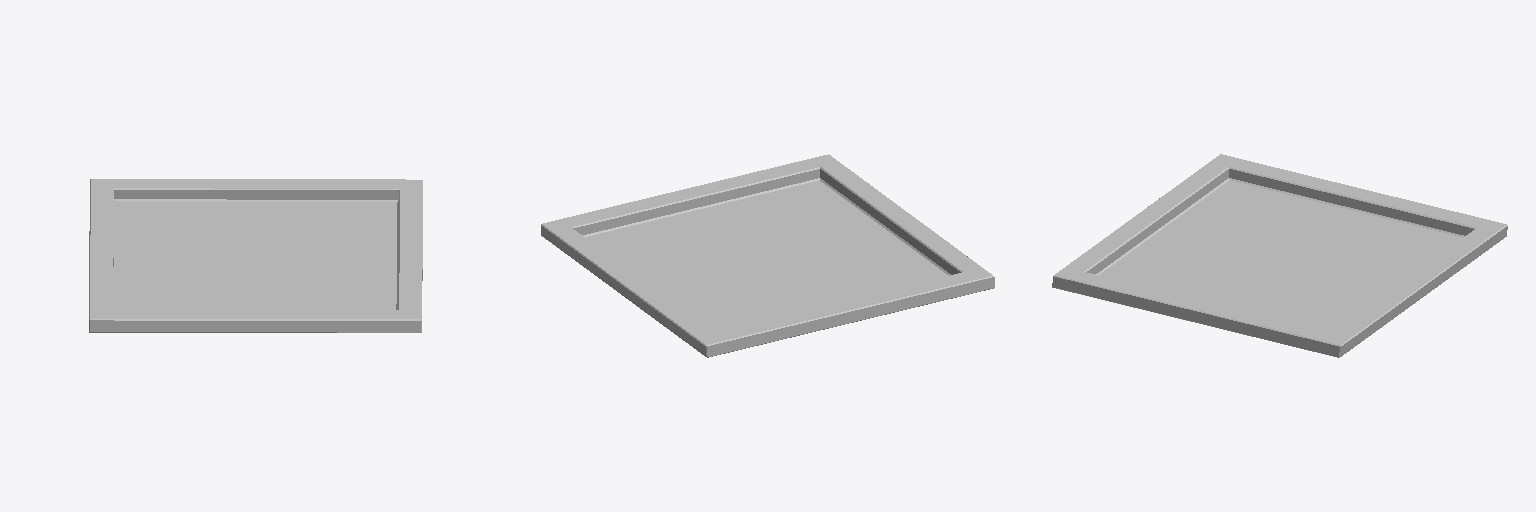
Rendered from box_lid.obj.
The picture shows the model from 3 angles: view 1: azimuth 30°, elevation 25°; view 2: azimuth 150°, elevation 25°; view 3: azimuth 270°, elevation 25°; orthographic projection.
Parts seen in each view (by area): view 1: Top_Cube.005; view 2: Top_Cube.005; view 3: Top_Cube.005.
Part boxes in pixels (left/top/right/bottom): Top_Cube.005: left=89, top=179, right=422, bottom=332; Top_Cube.005: left=541, top=154, right=994, bottom=357; Top_Cube.005: left=1052, top=154, right=1507, bottom=357.
Bounding box in the file's own units: 2.7 × 0.084 × 2.7.